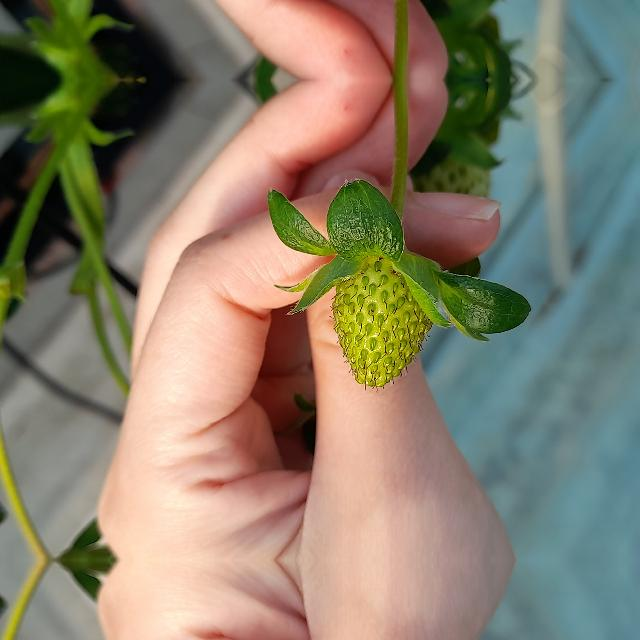Health_25: (329, 255, 433, 393)
